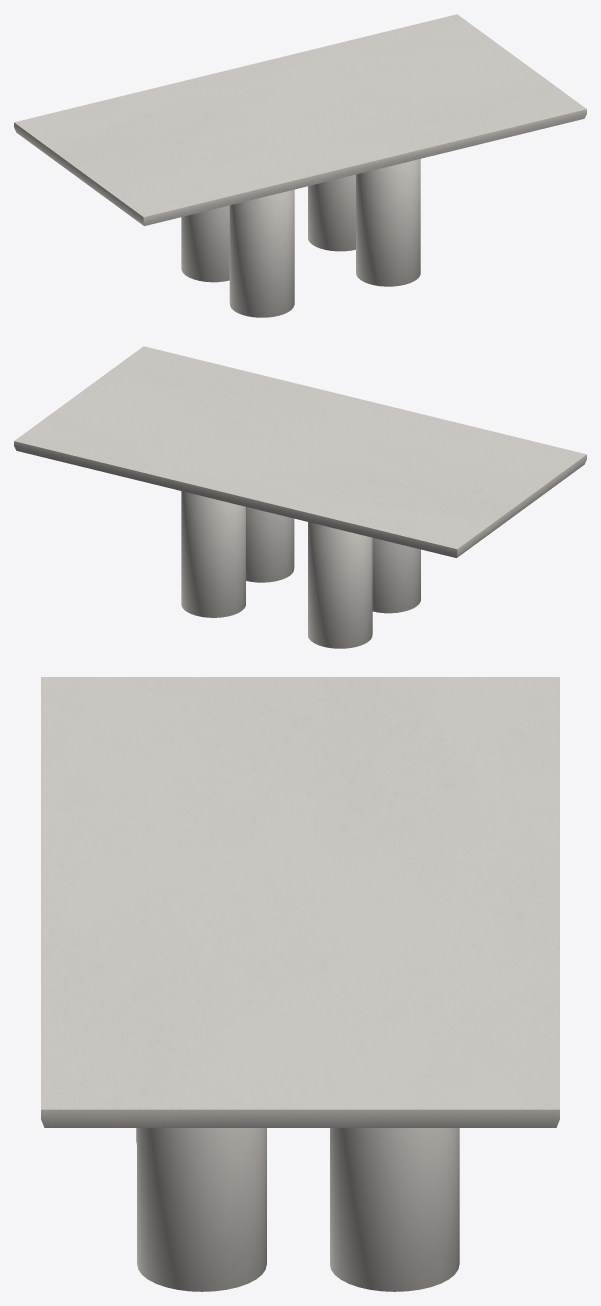
File: pearlwhite_recta_facet_grove.glb
3 renders of one model, top to bottom at view 1: azimuth 30°, elevation 25°; view 2: azimuth 150°, elevation 25°; view 3: azimuth 270°, elevation 25°, orthographic. The views are drawn at different scales.
Visible parts, largest first — view 1: tabletop_recta_facet.009, tableleg_grove.019; view 2: tabletop_recta_facet.009, tableleg_grove.019; view 3: tabletop_recta_facet.009, tableleg_grove.019.
Boxes of the visible parts, left/top/right/bottom form: tabletop_recta_facet.009: left=14, top=14, right=586, bottom=225; tableleg_grove.019: left=181, top=159, right=420, bottom=317; tabletop_recta_facet.009: left=14, top=346, right=586, bottom=557; tableleg_grove.019: left=181, top=491, right=420, bottom=648; tabletop_recta_facet.009: left=41, top=677, right=559, bottom=1127; tableleg_grove.019: left=136, top=1128, right=459, bottom=1291.
Bounding box in the file's own units: 7.5 × 2.5 × 3.8.
1 material, 1 textured.
